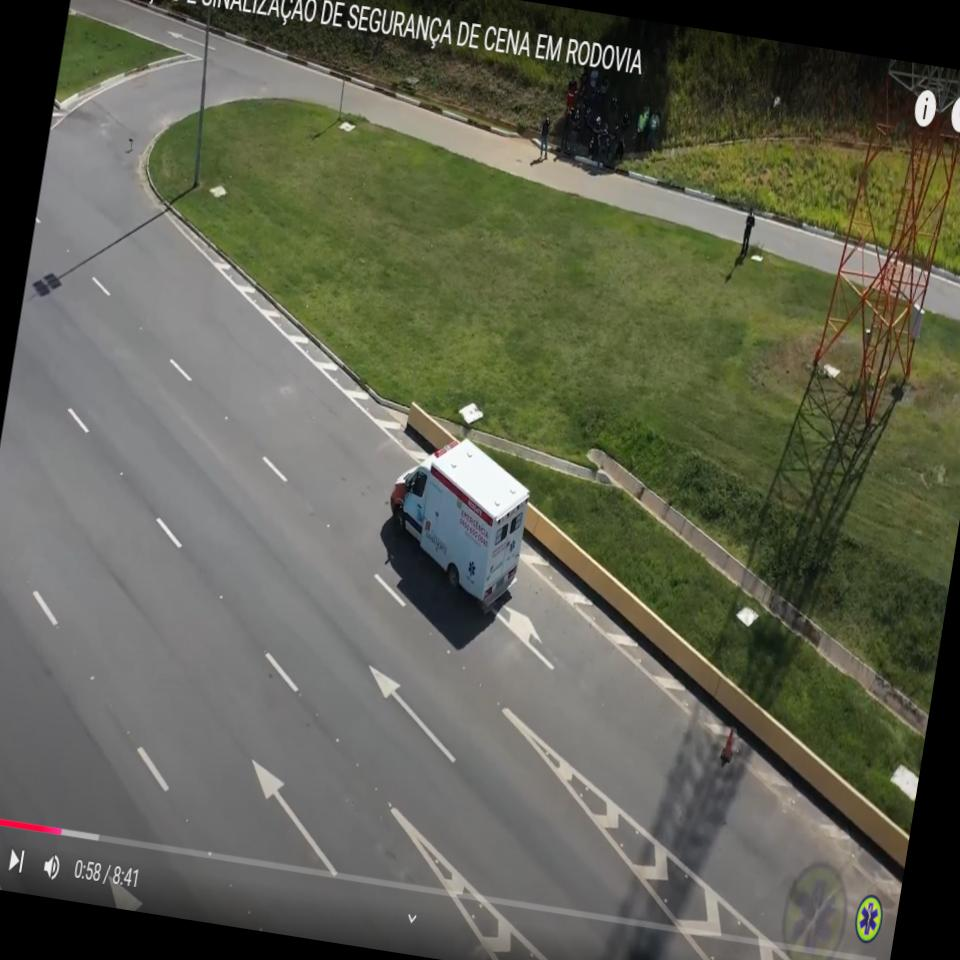bombeiro: (374, 430, 538, 615)
